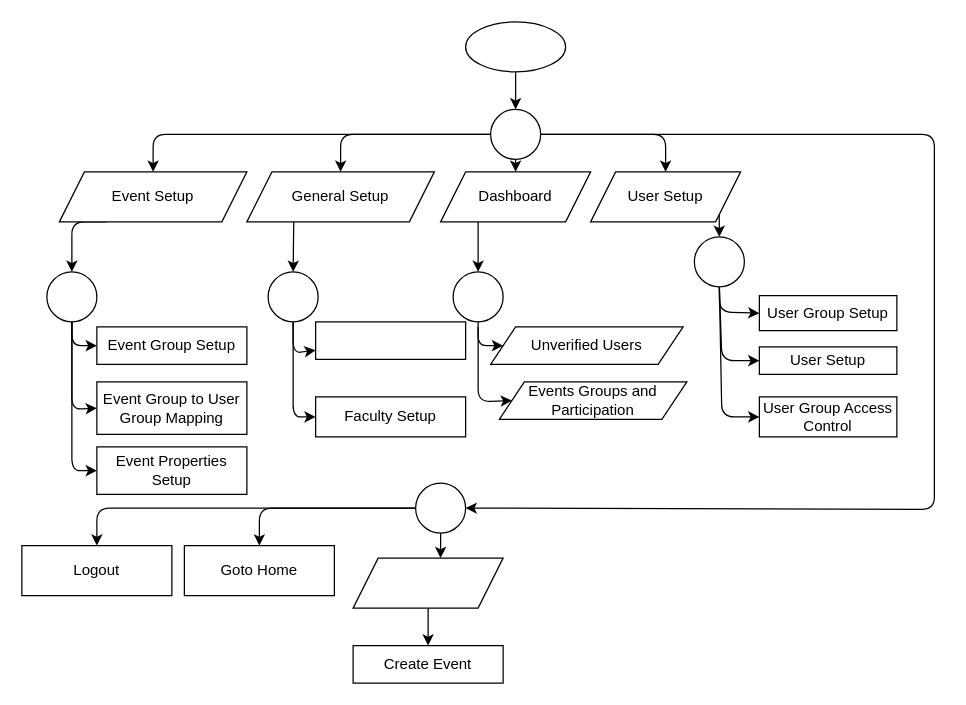
Some shapes in this 966 by 705 pixel diagram are drawn without their labels. Each missing label, with the centre of its shape:
"Events" goes at (x=427, y=582).
"Org Setup" goes at (x=390, y=340).
"Start" goes at (x=515, y=46).
